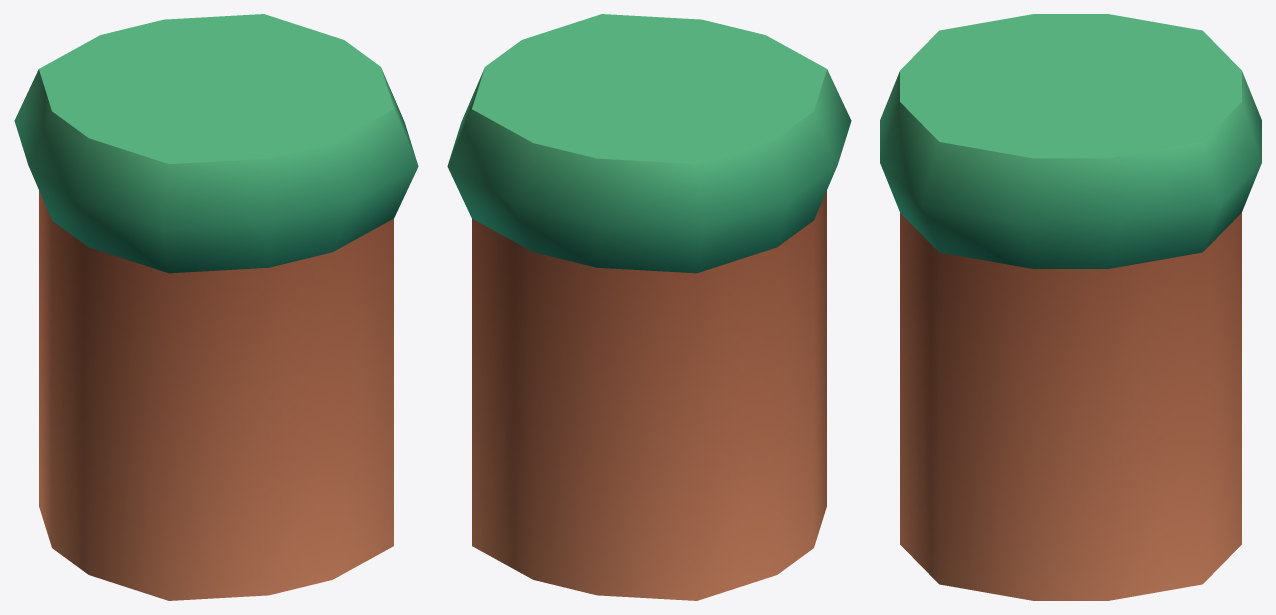
File: block-grass-narrow.glb
The picture shows the model from 3 angles, left to right: view 1: azimuth 30°, elevation 25°; view 2: azimuth 150°, elevation 25°; view 3: azimuth 270°, elevation 25°; orthographic projection.
Parts seen in each view (by area): view 1: block-grass-narrow; view 2: block-grass-narrow; view 3: block-grass-narrow.
Boxes of the visible parts, x1,y1,x2,y2 form: block-grass-narrow: (14,14,418,600); block-grass-narrow: (447,14,851,600); block-grass-narrow: (880,14,1261,600).
Size of the model in its own units: 0.7821 by 1 by 0.7821.
1 material, 1 textured.
